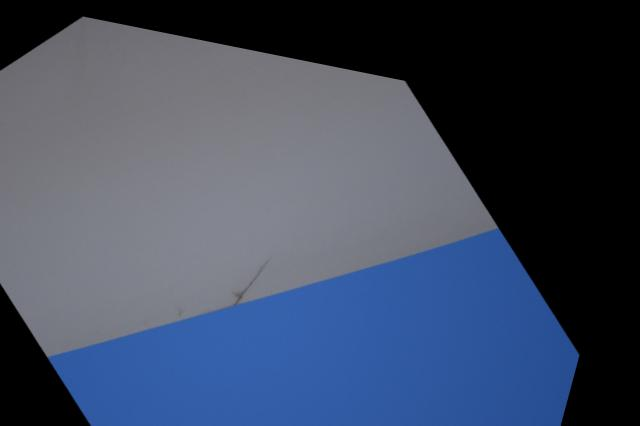damage: (232, 239, 294, 299)
